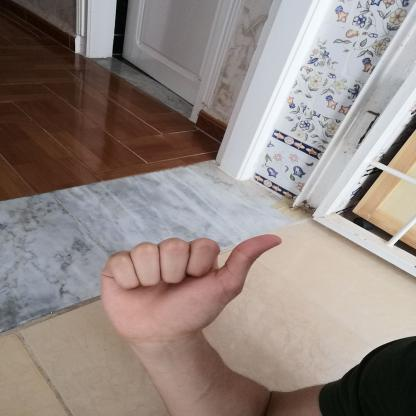DAD: (88, 224, 290, 353)
